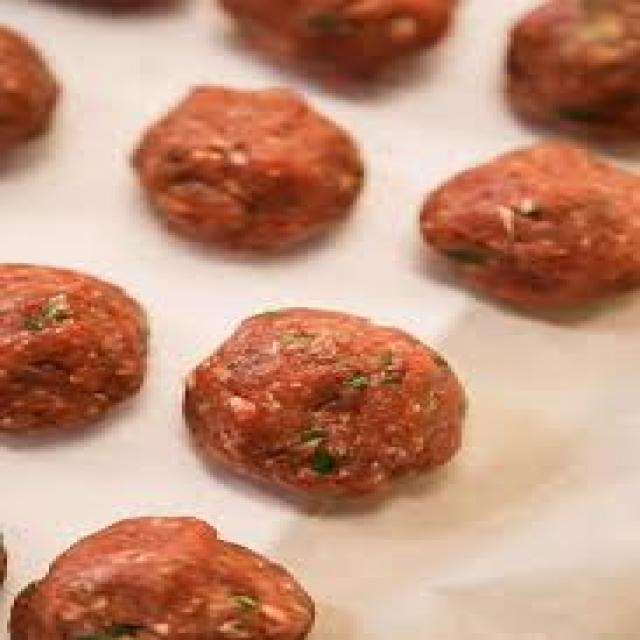meatball: (171, 297, 488, 517), (0, 487, 354, 640), (114, 87, 383, 253), (407, 130, 640, 307), (0, 251, 166, 443)
